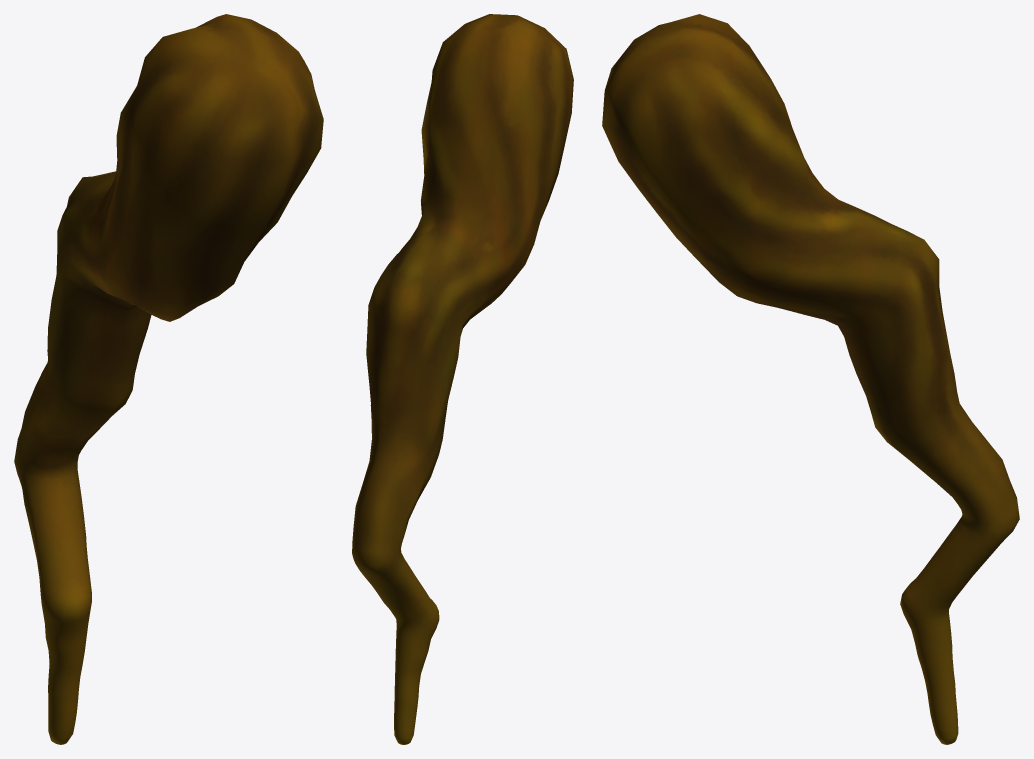
3 views of the same model, side by side, from view 1: azimuth 30°, elevation 25°; view 2: azimuth 150°, elevation 25°; view 3: azimuth 270°, elevation 25° (orthographic). The views are drawn at different scales.
Visible parts, largest first — view 1: SM_Root_9_LOD0; view 2: SM_Root_9_LOD0; view 3: SM_Root_9_LOD0.
Part boxes in pixels (left/top/right/bottom): SM_Root_9_LOD0: left=14, top=14, right=323, bottom=744; SM_Root_9_LOD0: left=352, top=14, right=573, bottom=744; SM_Root_9_LOD0: left=602, top=14, right=1019, bottom=744.
Size of the model in its own units: 41.51 by 104 by 200.
Materials: 1 (1 with a texture image).
